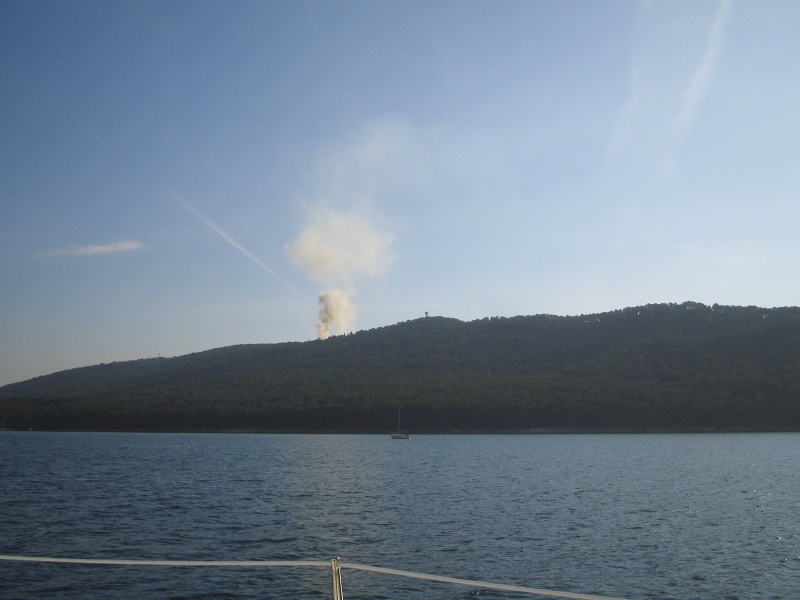smoke: (290, 217, 381, 338)
